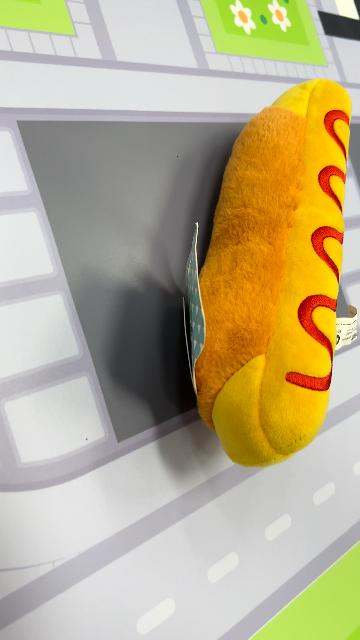hotdog: (188, 77, 354, 469)
